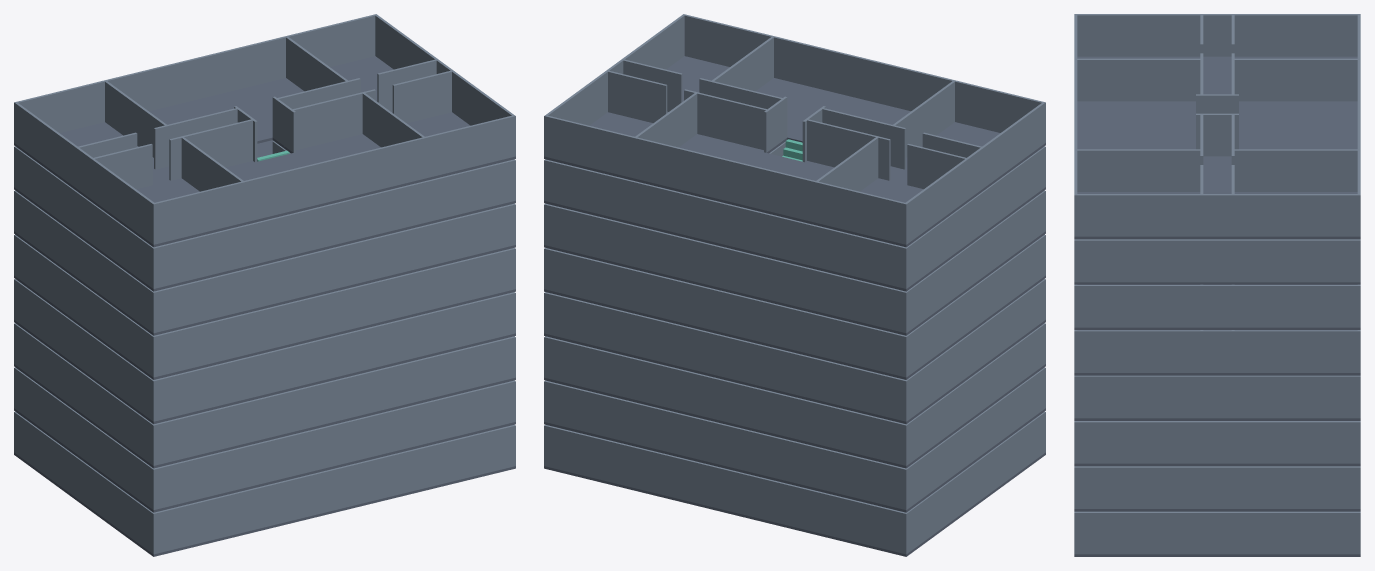
Rendered from sample-building.glb.
The picture shows the model from 3 angles, left to right: view 1: azimuth 30°, elevation 25°; view 2: azimuth 150°, elevation 25°; view 3: azimuth 270°, elevation 25°; orthographic projection. The views are drawn at different scales.
Parts seen in each view (by area): view 1: Floor_5, Floor_4, Floor_3, Floor_G, Floor_2, Floor_B2, Floor_B1, Floor_1; view 2: Floor_5, Floor_4, Floor_3, Floor_G, Floor_2, Floor_B2, Floor_B1, Floor_1; view 3: Floor_5, Floor_B2, Floor_B1, Floor_G, Floor_1, Floor_2, Floor_3, Floor_4.
Part boxes in pixels (x1,y1,x2,y2): Floor_5: (14,14,515,247); Floor_4: (14,140,515,291); Floor_3: (14,190,515,335); Floor_G: (14,323,515,468); Floor_2: (14,234,515,379); Floor_B2: (14,411,515,556); Floor_B1: (14,367,515,512); Floor_1: (14,279,515,424); Floor_5: (544,14,1045,247); Floor_4: (544,139,1045,291); Floor_3: (544,190,1045,335); Floor_G: (544,323,1045,468); Floor_2: (544,234,1045,379); Floor_B2: (544,411,1045,556); Floor_B1: (544,367,1045,512); Floor_1: (544,279,1045,424); Floor_5: (1074,14,1360,239); Floor_B2: (1074,511,1360,556); Floor_B1: (1074,466,1360,511); Floor_G: (1074,421,1360,466); Floor_1: (1074,375,1360,420); Floor_2: (1074,330,1360,375); Floor_3: (1074,284,1360,329); Floor_4: (1074,239,1360,284).
Bounding box in the file's own units: 30 × 27.9 × 20.
